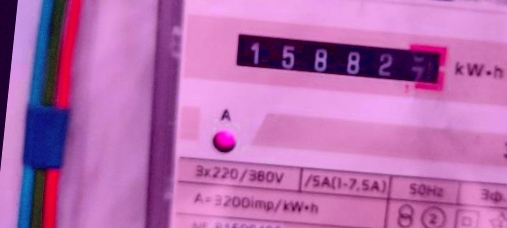1: (246, 40, 263, 66)
2: (376, 51, 393, 76)
5: (278, 42, 297, 69)
7: (409, 62, 424, 83)
8: (311, 46, 330, 74), (344, 49, 361, 75)
screen: (219, 16, 457, 103)
